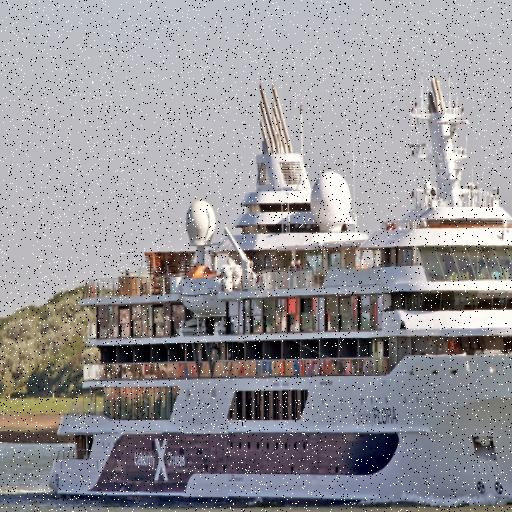cruises: (48, 53, 512, 512)
